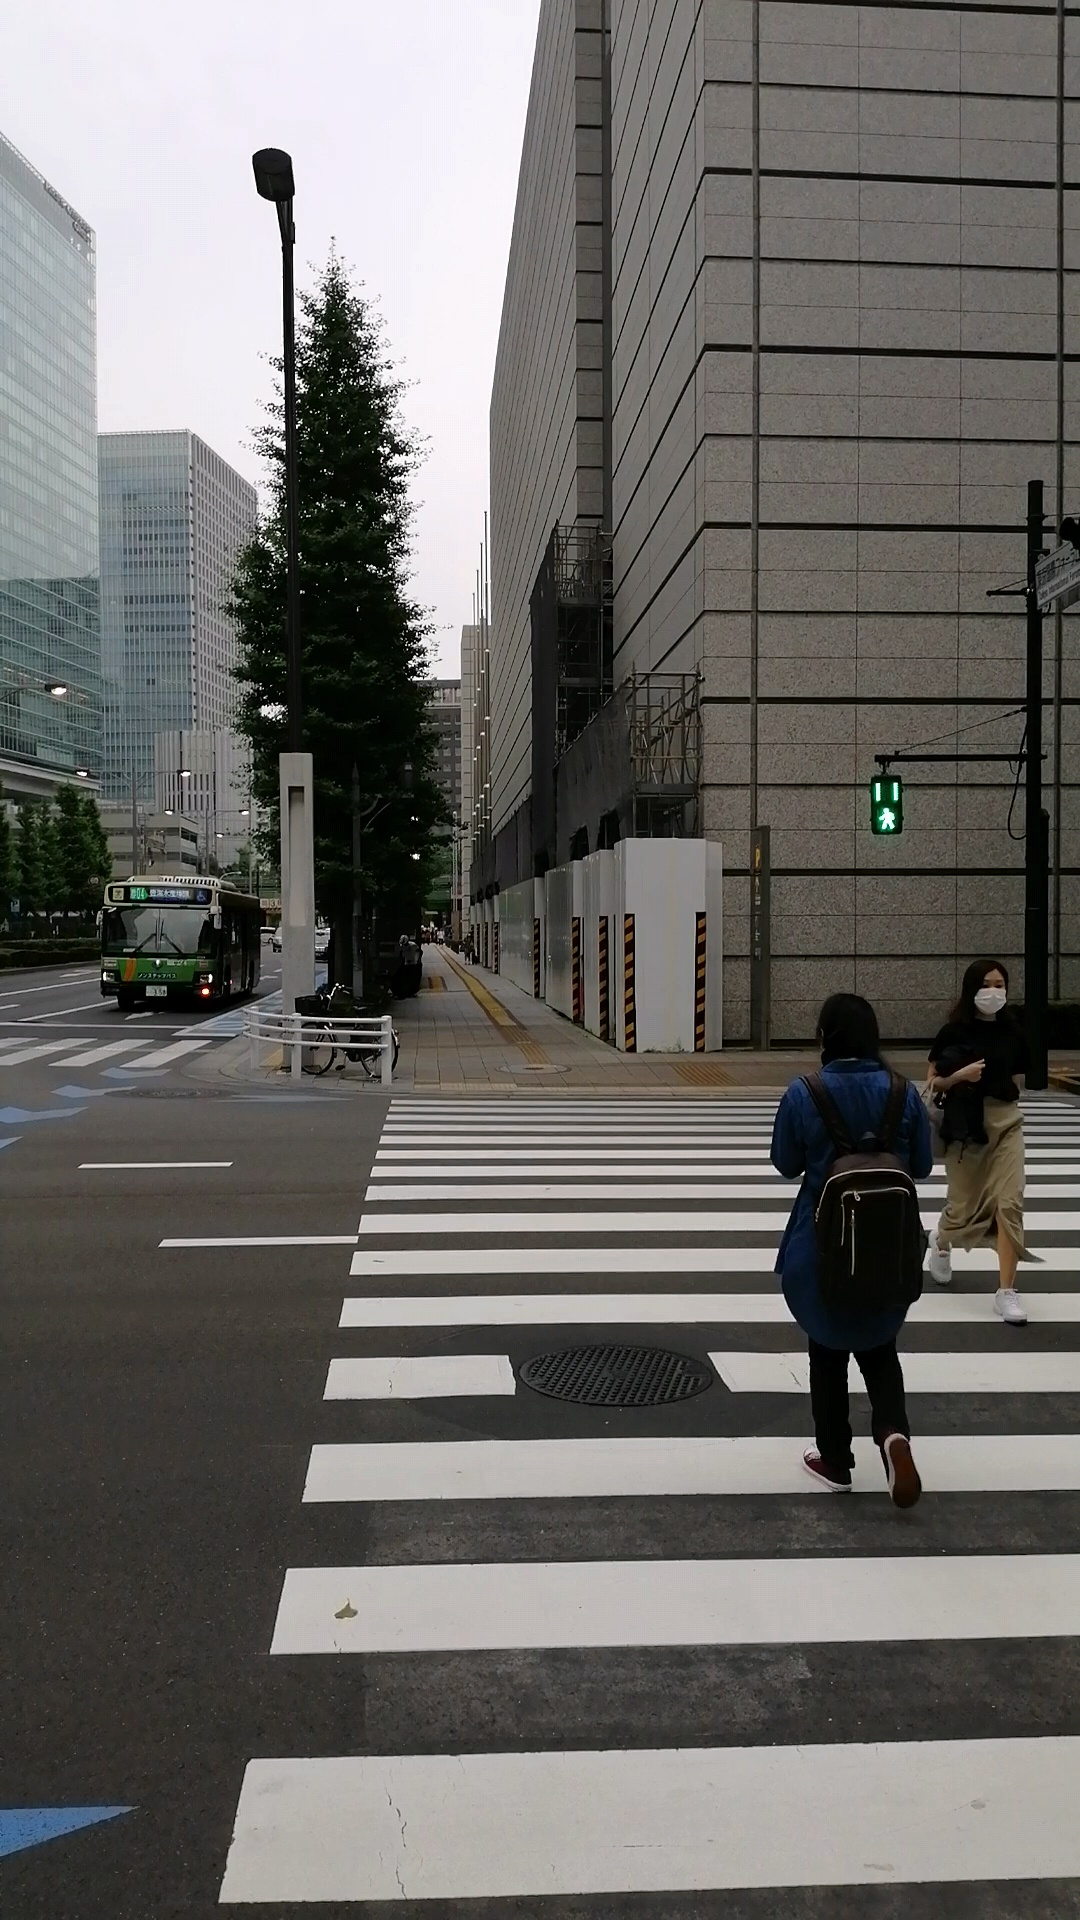green: (866, 773, 903, 839)
